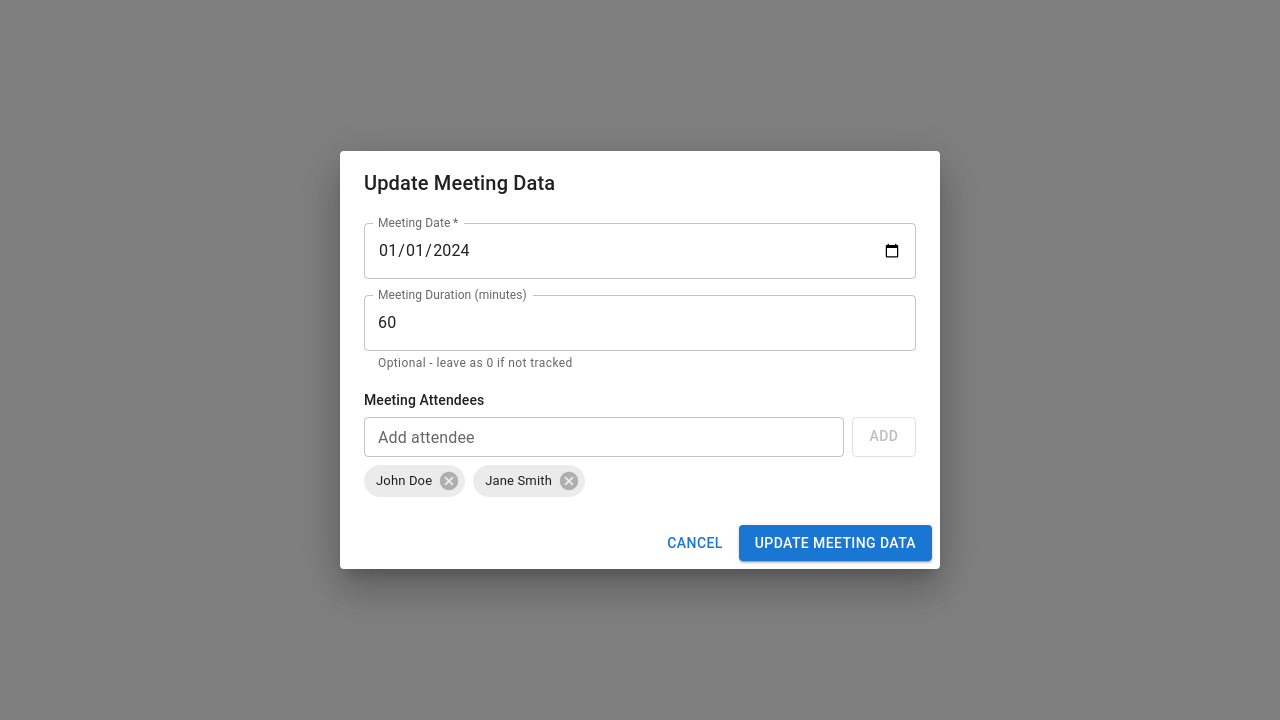
Test: MeetingDataForm › handles API error
Click the button "Update Meeting Data": click(835, 543) 739,525 -> 932,561
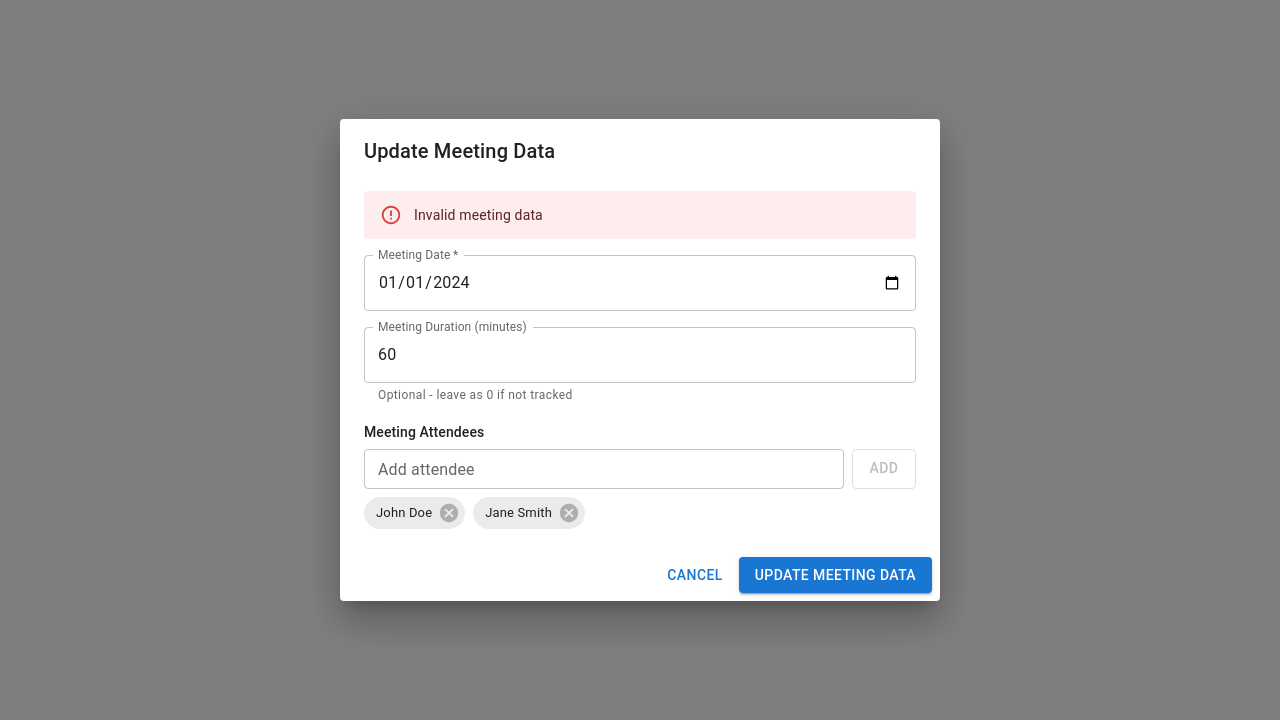
Result: the text "Invalid meeting data" is shown at 414,207 -> 543,223
